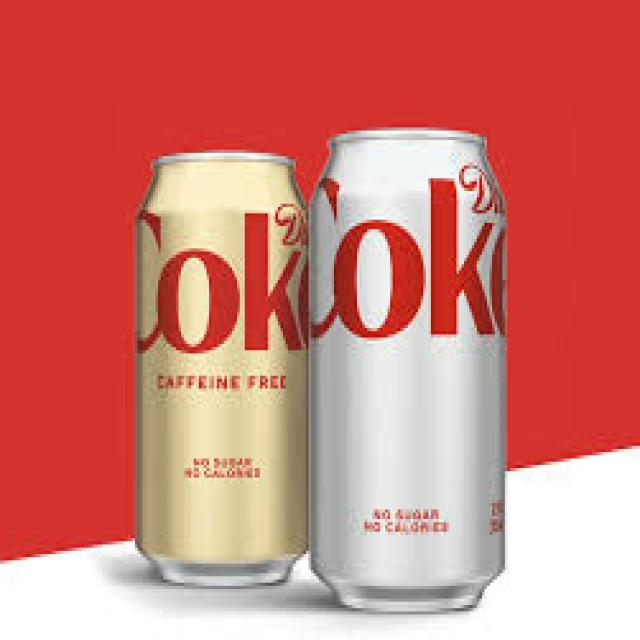Cans: (306, 108, 530, 618), (122, 147, 319, 592)
